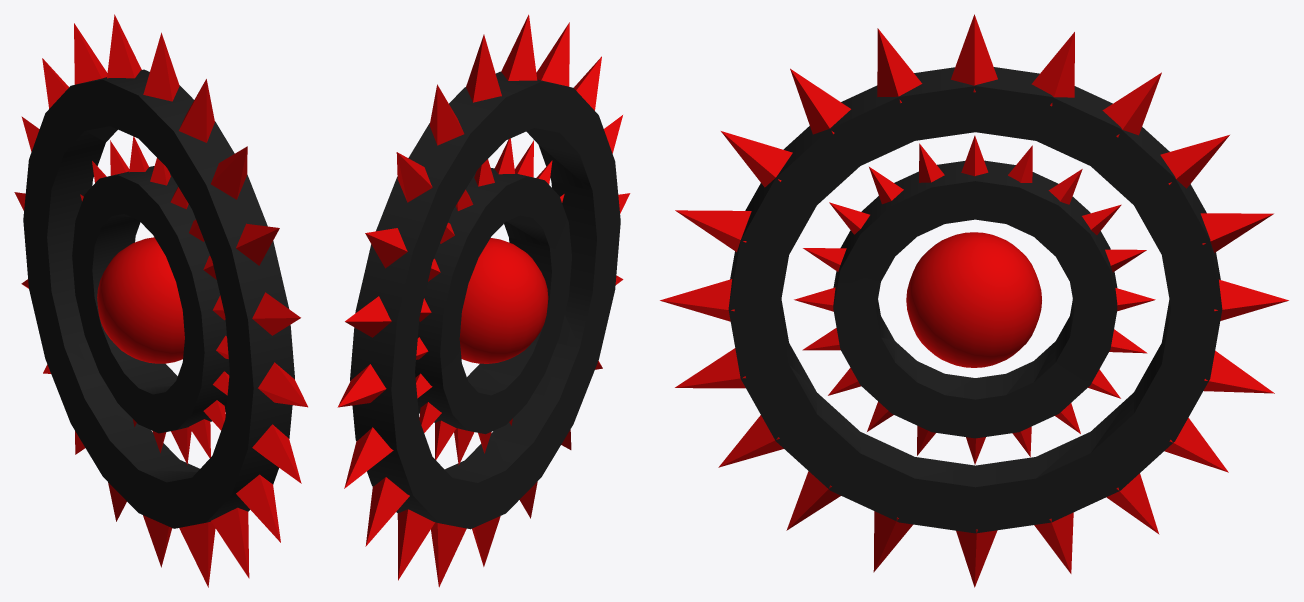
The model's file is Trap-3.fbx.
3 renders of one model, left to right at view 1: azimuth 30°, elevation 25°; view 2: azimuth 150°, elevation 25°; view 3: azimuth 270°, elevation 25°, orthographic. The views are drawn at different scales.
Parts seen in each view (by area): view 1: Out, In, Cirlce, pPyramid74 (×2), pPyramid78 (×2), pPyramid64 (×2), pPyramid63 (×2), pPyramid72 (×2), pPyramid69, pPyramid82, pPyramid81, pPyramid70 (+5 smaller); view 2: Out, In, Cirlce, pPyramid75 (×2), pPyramid71 (×2), pPyramid81 (×2), pPyramid77 (×2), pPyramid79 (×2), pPyramid69, pPyramid65, pPyramid63, pPyramid68 (+5 smaller); view 3: Out, In, Cirlce, pPyramid81, pPyramid69, pPyramid77, pPyramid73, pPyramid66, pPyramid63, pPyramid72, pPyramid76, pPyramid70 (+11 smaller).
Part boxes in pixels (x1,y1,x2,y2): Out: (23, 69, 294, 528); In: (72, 166, 229, 433); Cirlce: (97, 237, 184, 363); pPyramid74 (×2): (189, 419, 249, 578); pPyramid78 (×2): (203, 400, 280, 542); pPyramid64 (×2): (171, 427, 215, 587); pPyramid63 (×2): (107, 14, 148, 172); pPyramid72 (×2): (74, 23, 129, 175); pPyramid69: (143, 32, 179, 101); pPyramid82: (252, 424, 301, 483); pPyramid81: (179, 79, 214, 142); pPyramid70: (258, 362, 307, 407); Out: (350, 71, 620, 529); In: (415, 168, 571, 434); Cirlce: (459, 238, 548, 363); pPyramid75 (×2): (397, 420, 456, 580); pPyramid71 (×2): (365, 402, 441, 546); pPyramid81 (×2): (494, 14, 537, 174); pPyramid77 (×2): (514, 22, 569, 177); pPyramid79 (×2): (431, 428, 474, 587); pPyramid69: (466, 34, 501, 102); pPyramid65: (344, 427, 393, 488); pPyramid63: (429, 84, 464, 145); pPyramid68: (337, 364, 386, 407); Out: (728, 67, 1222, 533); In: (833, 160, 1117, 438); Cirlce: (906, 232, 1041, 367); pPyramid81: (877, 28, 922, 103); pPyramid69: (951, 14, 997, 92); pPyramid77: (790, 68, 850, 134); pPyramid73: (721, 131, 792, 187); pPyramid66: (675, 210, 751, 252); pPyramid63: (1031, 32, 1074, 106); pPyramid72: (1102, 72, 1161, 137); pPyramid76: (1160, 135, 1229, 188); pPyramid70: (660, 279, 734, 321).
Bounding box in the file's own units: 3.25 × 15.13 × 15.06.
